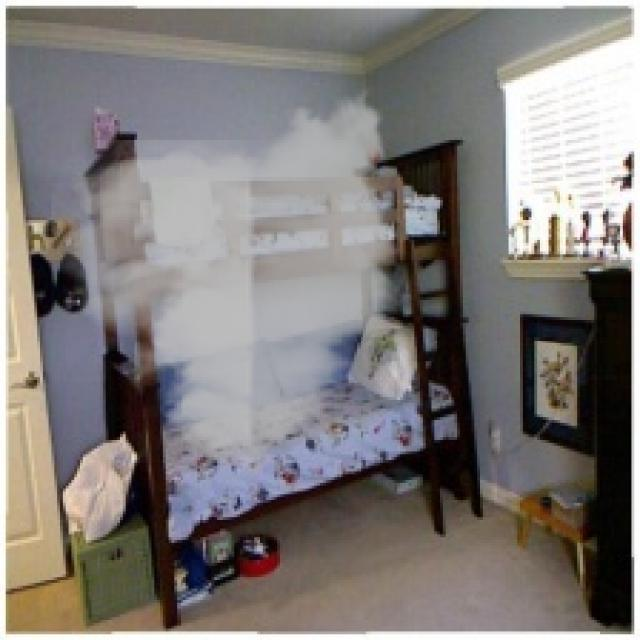Smoke: (51, 77, 408, 486)
